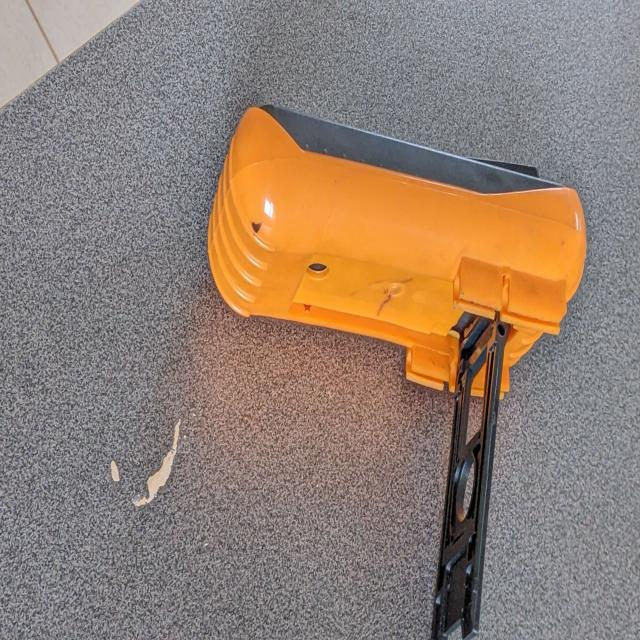Digital Multimeter: (201, 84, 594, 587)
